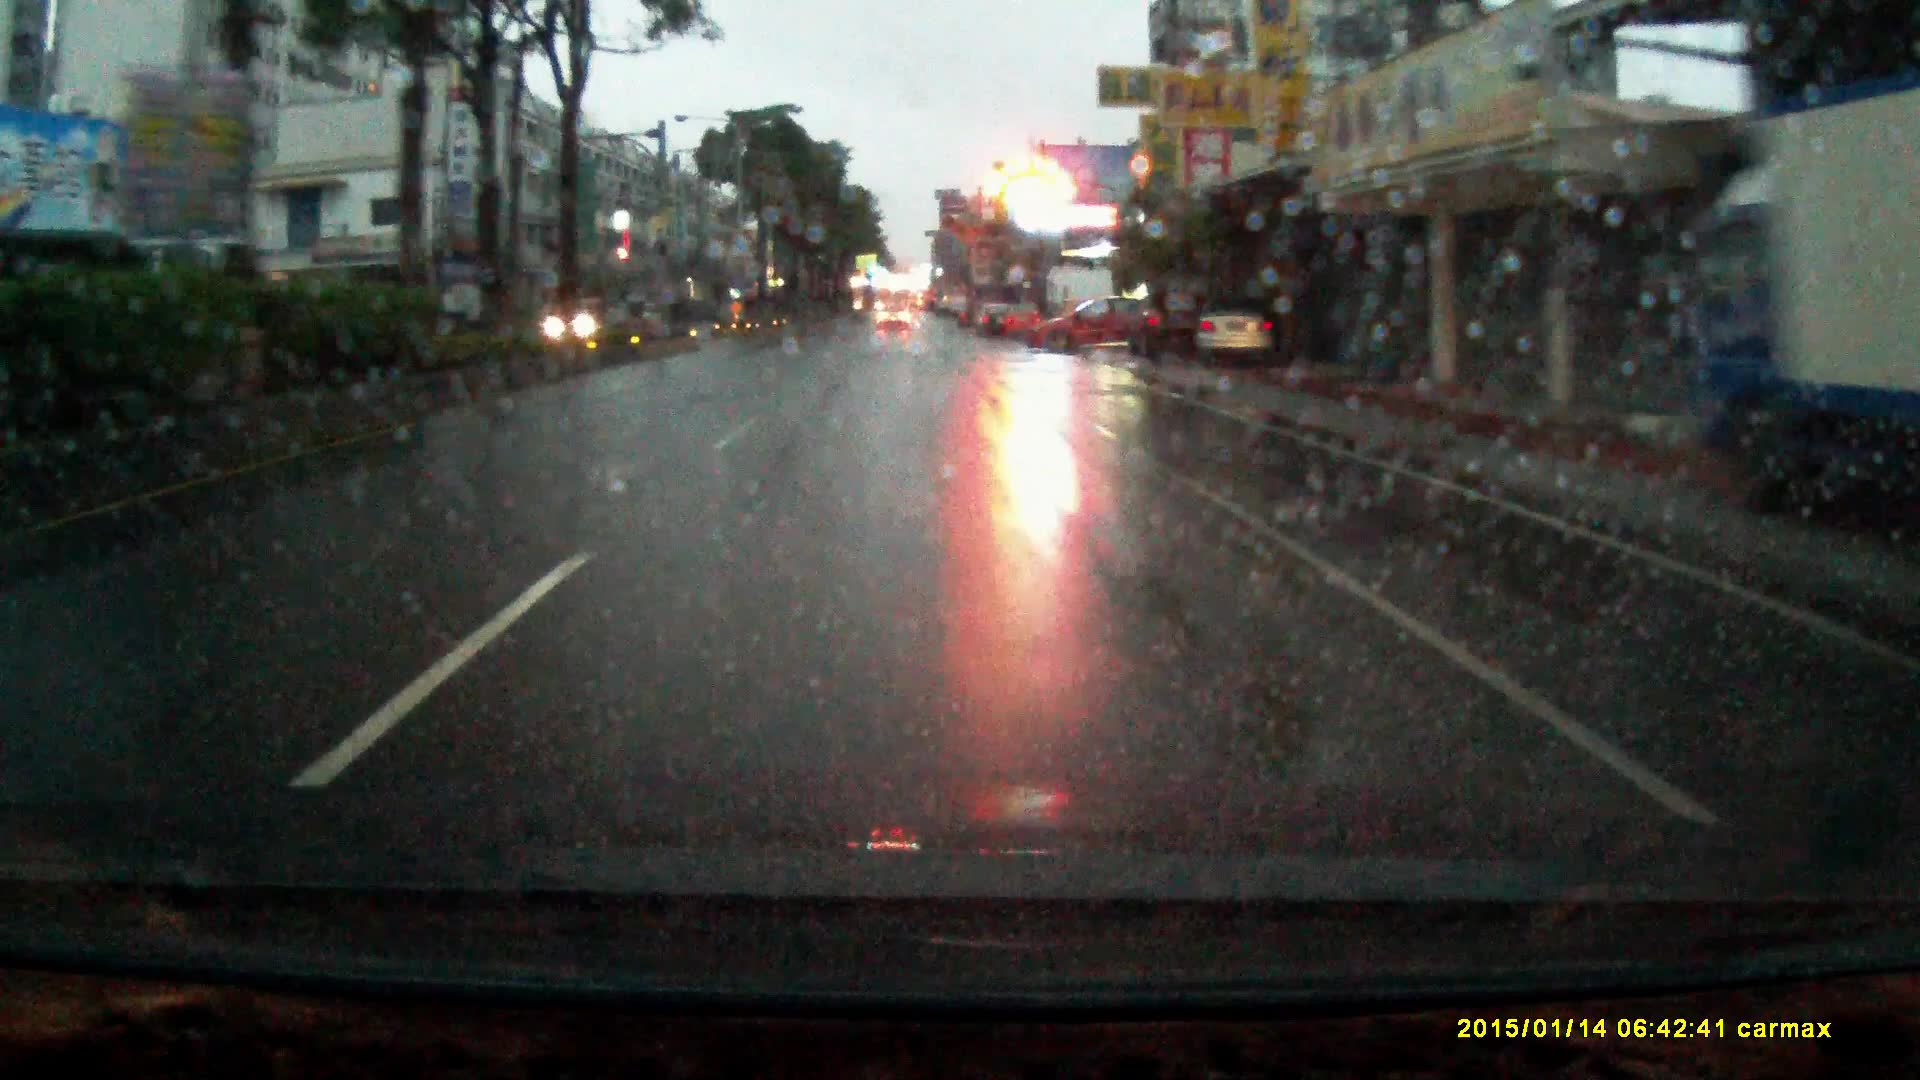vehicle: (1665, 94, 1920, 498), (1025, 294, 1164, 353), (1189, 293, 1280, 367), (1127, 291, 1204, 357), (1004, 299, 1046, 338), (878, 302, 913, 330)
